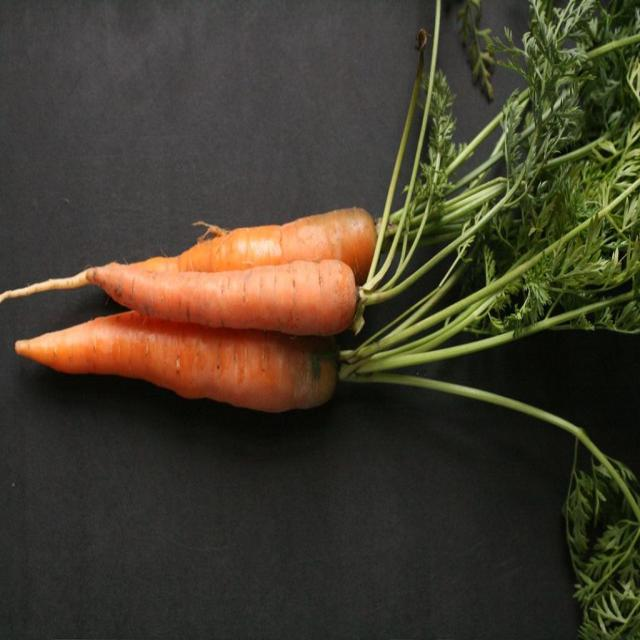Carrot: (15, 305, 336, 403), (86, 257, 367, 333)
